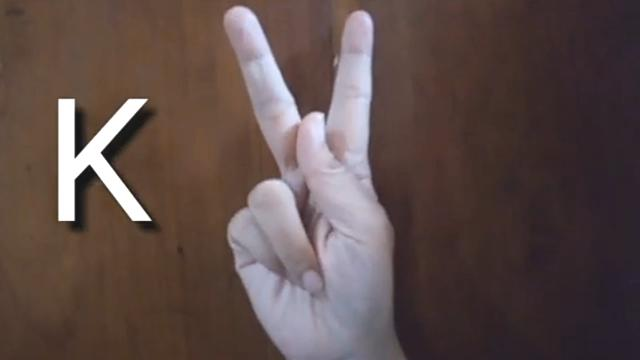K: (220, 2, 410, 360)
